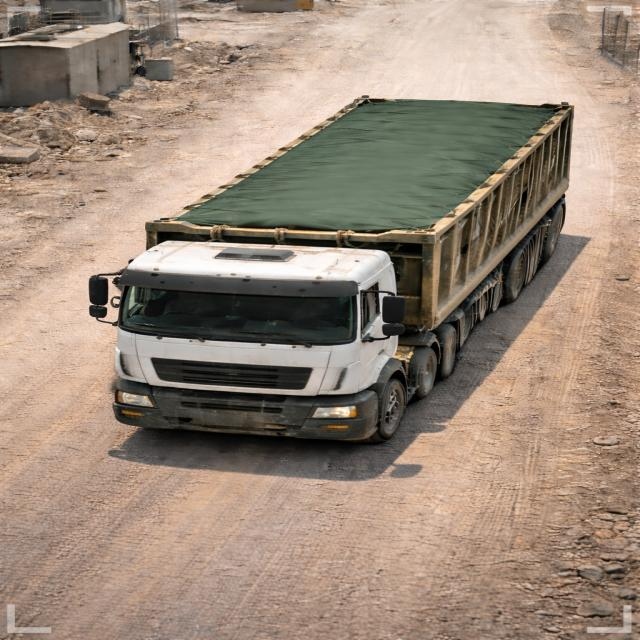trailer: (154, 95, 570, 233)
truck: (83, 85, 606, 431)
